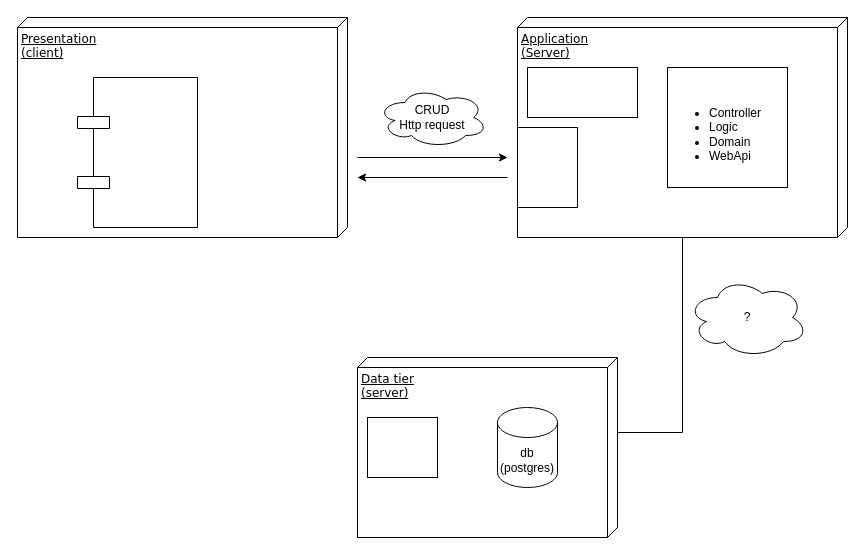
This 865x555 diagram has some shape labels left out. The shapes that lost their labels are listed below. From the top down, each one's centre as x and y in pixels, then its label:
the point at 582,92: c# .NET
the point at 137,152: Blazor (Browser)
the point at 547,167: end point
the point at 402,447: java
